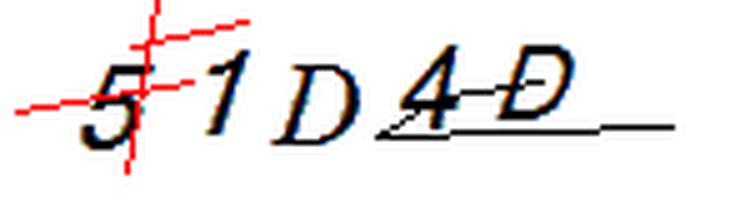1: (188, 42, 258, 146)
4: (387, 36, 472, 142)
5: (73, 55, 163, 155)
D: (265, 58, 367, 155), (485, 38, 589, 129)
